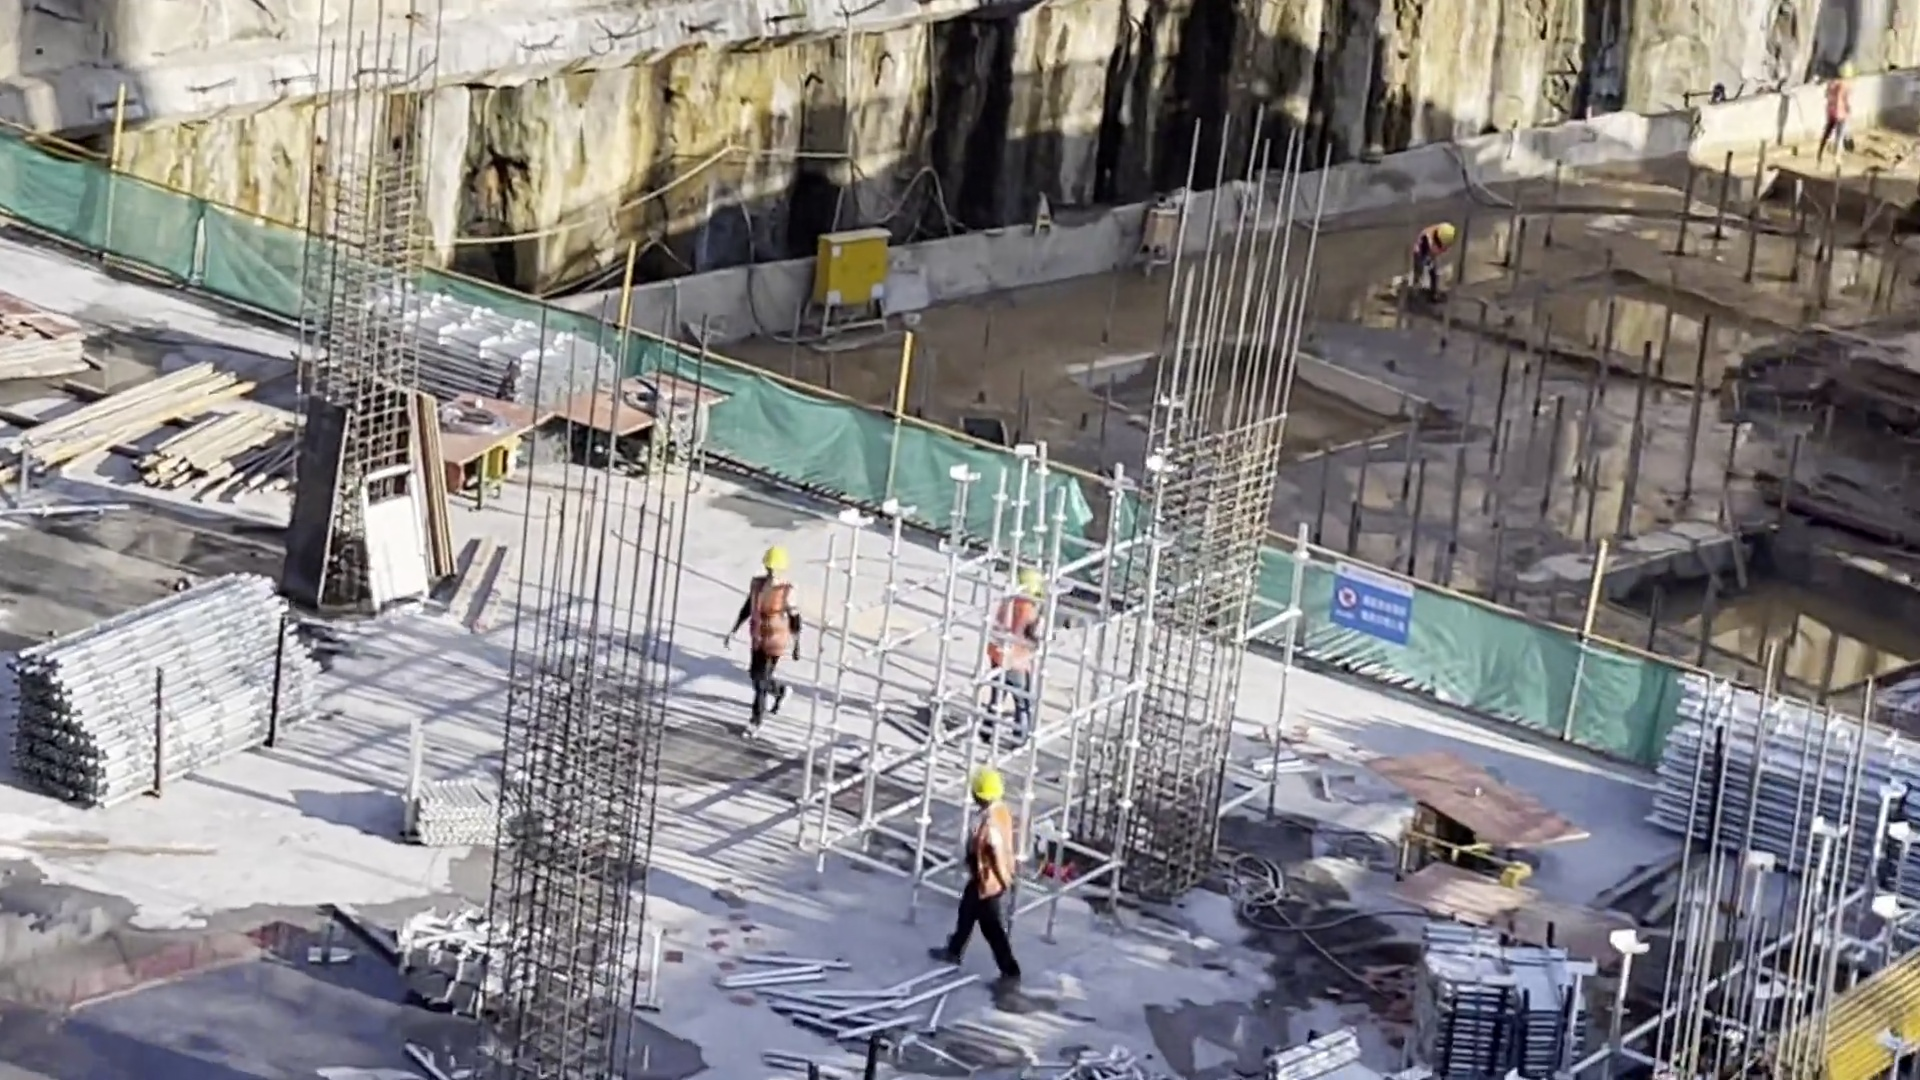cutter: (1391, 740, 1557, 859), (1411, 873, 1625, 960), (555, 383, 700, 472), (445, 400, 538, 476)
ebox: (805, 242, 869, 313), (1137, 204, 1185, 256)
helmet: (973, 766, 1001, 798), (765, 549, 790, 572), (1434, 225, 1455, 247), (1022, 570, 1041, 591), (1837, 62, 1854, 79)
person: (932, 765, 1023, 992), (722, 544, 802, 752), (977, 564, 1043, 764), (1403, 219, 1455, 304), (1817, 63, 1852, 166)
scaffold: (1, 561, 313, 789), (1645, 740, 1883, 905), (341, 265, 593, 404), (1395, 937, 1583, 1068), (391, 761, 513, 860)
slogan: (1329, 575, 1407, 631)
vest: (992, 594, 1040, 675), (968, 810, 1010, 893), (746, 583, 790, 652), (1824, 85, 1847, 128), (1413, 229, 1436, 256)
wood: (28, 372, 225, 471), (175, 400, 301, 471)
